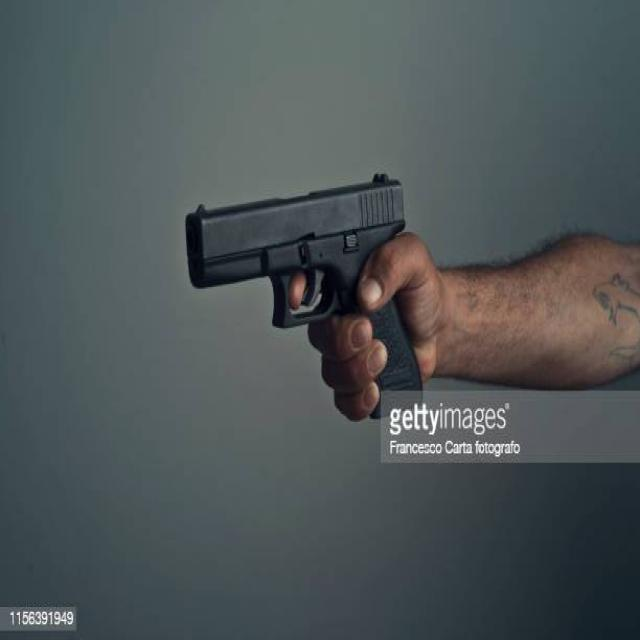HandGun: (185, 174, 424, 419)
